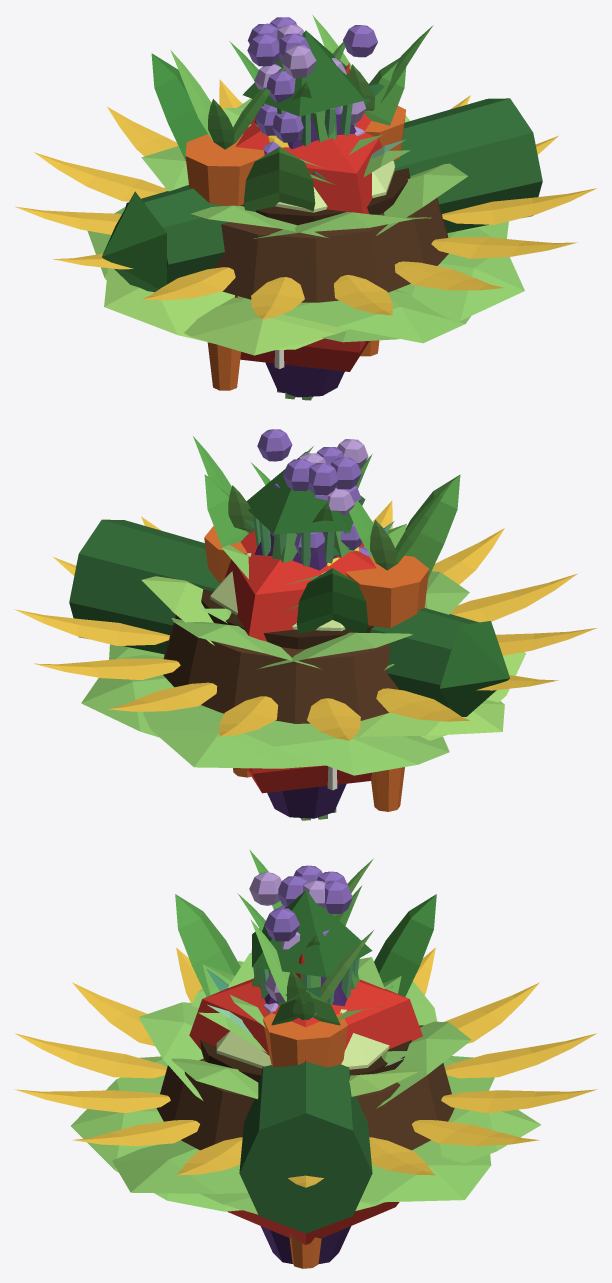
The model's file is crops.glb.
3 renders of one model, top to bottom at view 1: azimuth 30°, elevation 25°; view 2: azimuth 150°, elevation 25°; view 3: azimuth 270°, elevation 25°, orthographic. The views are drawn at different scales.
Visible parts, largest first — view 1: crop_tournesol, crop_salade, crop_courgette, crop_carotte, crop_radis, crop_poivron, crop_lavande, crop_aubergine, crop_ciboulette, crop_basilic; view 2: crop_tournesol, crop_salade, crop_courgette, crop_carotte, crop_poivron, crop_radis, crop_aubergine, crop_lavande, crop_ciboulette, crop_haricot, crop_basilic; view 3: crop_tournesol, crop_salade, crop_courgette, crop_poivron, crop_carotte, crop_radis, crop_aubergine, crop_lavande, crop_basilic, crop_ciboulette.
Boxes of the visible parts, x1,y1,x2,y2 form: crop_tournesol: (15, 79, 596, 319); crop_salade: (87, 98, 524, 355); crop_courgette: (102, 98, 542, 292); crop_carotte: (170, 15, 433, 390); crop_radis: (151, 53, 406, 368); crop_poivron: (235, 113, 382, 371); crop_lavande: (247, 17, 377, 400); crop_aubergine: (243, 30, 365, 397); crop_ciboulette: (255, 103, 355, 146); crop_basilic: (310, 150, 410, 184); crop_tournesol: (14, 500, 596, 740); crop_salade: (81, 534, 525, 775); crop_courgette: (69, 519, 509, 716); crop_carotte: (193, 436, 453, 811); crop_poivron: (225, 531, 376, 793); crop_radis: (204, 474, 460, 790); crop_aubergine: (246, 452, 365, 818); crop_lavande: (257, 429, 370, 820); crop_ciboulette: (253, 515, 351, 566); crop_haricot: (272, 531, 353, 562); crop_basilic: (201, 523, 406, 623); crop_tournesol: (14, 947, 597, 1187); crop_salade: (71, 953, 540, 1214); crop_courgette: (239, 1062, 372, 1233); crop_poivron: (189, 978, 422, 1244); crop_carotte: (237, 850, 373, 1268); crop_radis: (175, 894, 436, 1025); crop_aubergine: (252, 891, 372, 1263); crop_lavande: (249, 865, 352, 1013); crop_basilic: (198, 964, 413, 1066); crop_ciboulette: (251, 950, 359, 1005).
Bounding box in the file's own units: 0.36 × 0.2468 × 0.351.
